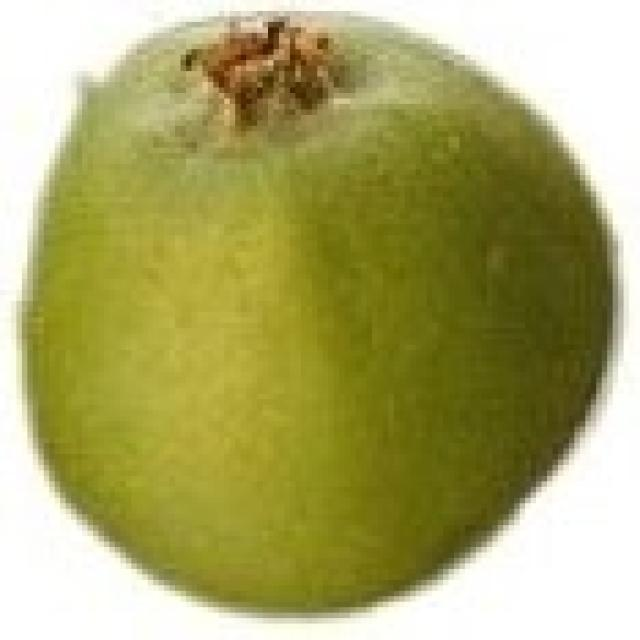50-_ripeness: (15, 9, 623, 611)
